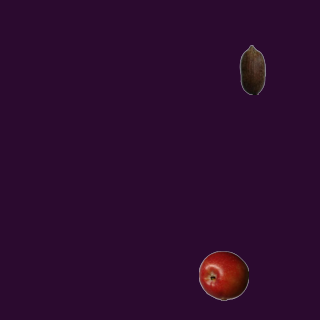Apple Braeburn: (198, 250, 248, 300)
Nut Pecan: (227, 44, 277, 94)
